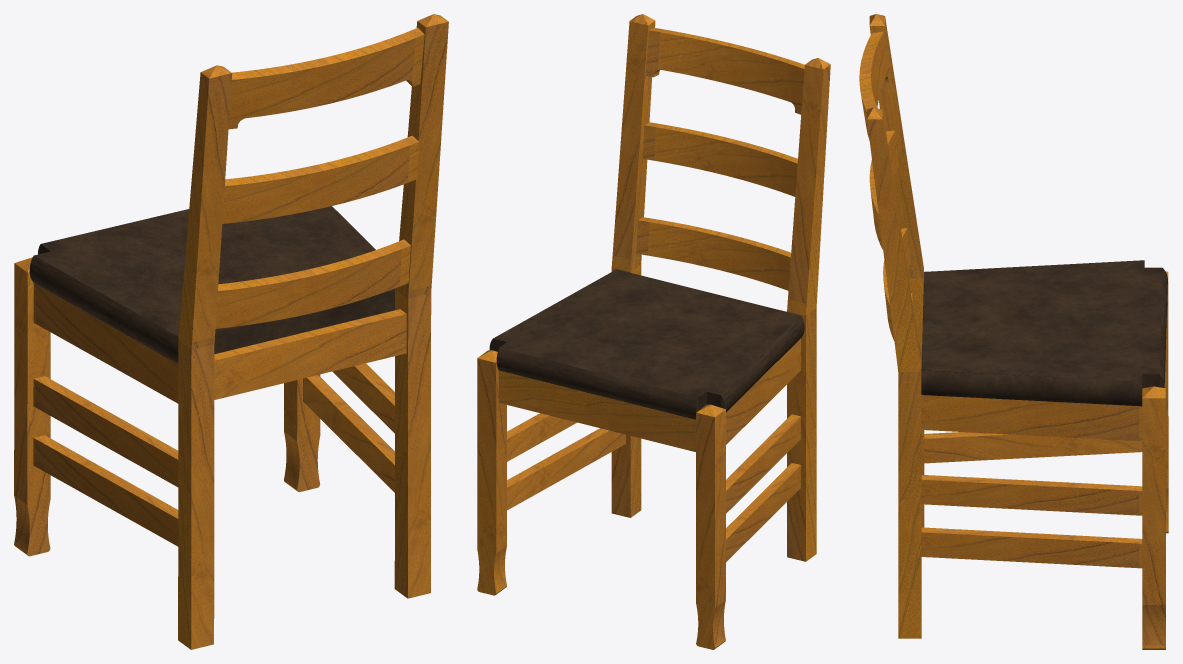
The model's file is chair2.dae.
3 renders of one model, left to right at view 1: azimuth 30°, elevation 25°; view 2: azimuth 150°, elevation 25°; view 3: azimuth 270°, elevation 25°, orthographic. The views are drawn at different scales.
Visible parts, largest first — view 1: Group_4 (×2), group_9 (×2), group_2 (×2), FRONT_LEG (×2), group_20, group_18, group_16, group_19, group_13, group_8, group_15, group_11; view 2: group_9, Group_4 (×2), FRONT_LEG (×2), group_2 (×2), group_20, group_8 (×2), group_14, group_15, group_13, group_19, group_16, group_11; view 3: group_9, Group_4 (×2), group_12, FRONT_LEG (×2), group_15, group_11, group_8 (×2), group_19, group_20, group_2 (×2).
Boxes of the visible parts, <box> form: Group_4 (×2): <box>178,14,448,649</box>; group_9 (×2): <box>34,206,395,354</box>; group_2 (×2): <box>215,135,418,328</box>; FRONT_LEG (×2): <box>14,257,320,556</box>; group_20: <box>228,27,424,129</box>; group_18: <box>214,309,406,399</box>; group_16: <box>33,283,178,403</box>; group_19: <box>33,435,178,546</box>; group_13: <box>33,376,178,487</box>; group_8: <box>29,255,178,363</box>; group_15: <box>303,375,394,492</box>; group_11: <box>332,363,394,433</box>; group_9: <box>493,269,800,410</box>; Group_4 (×2): <box>611,14,830,561</box>; FRONT_LEG (×2): <box>477,350,725,649</box>; group_2 (×2): <box>636,122,797,290</box>; group_20: <box>645,28,804,114</box>; group_8 (×2): <box>496,316,804,419</box>; group_14: <box>499,370,695,451</box>; group_15: <box>507,428,625,510</box>; group_13: <box>726,414,800,513</box>; group_19: <box>726,463,800,561</box>; group_16: <box>726,338,800,444</box>; group_11: <box>507,413,576,461</box>; group_9: <box>921,260,1162,388</box>; Group_4 (×2): <box>867,14,924,638</box>; group_12: <box>921,395,1142,441</box>; FRONT_LEG (×2): <box>1142,271,1168,649</box>; group_15: <box>921,527,1142,568</box>; group_11: <box>921,475,1142,515</box>; group_8 (×2): <box>921,268,1167,406</box>; group_19: <box>924,432,1142,463</box>; group_20: <box>859,31,891,140</box>; group_2 (×2): <box>869,130,910,340</box>.
Size of the model in its own units: 19.33 by 19.97 by 37.57.
Materials: 5 (4 with a texture image).
